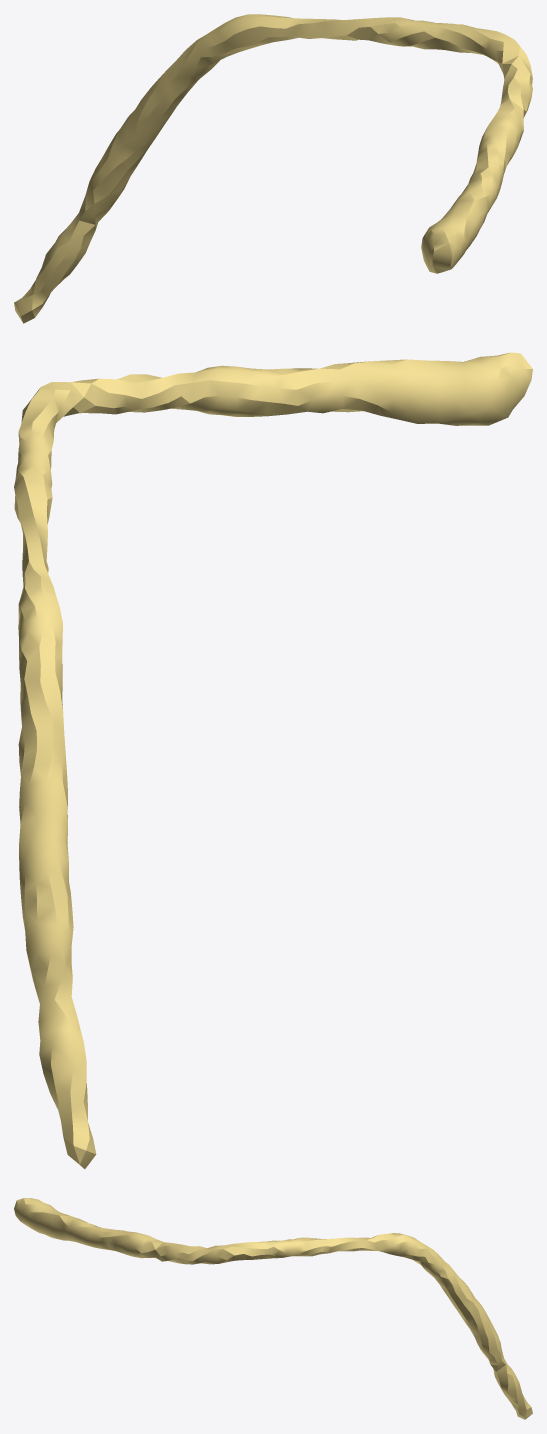
Rendered from fma53229_mm1021m.glb.
The picture shows the model from 3 angles, top to bottom: view 1: azimuth 30°, elevation 25°; view 2: azimuth 150°, elevation 25°; view 3: azimuth 270°, elevation 25°; orthographic projection. The views are drawn at different scales.
Parts seen in each view (by area): view 1: FMA53229_MM1021M; view 2: FMA53229_MM1021M; view 3: FMA53229_MM1021M.
Boxes of the visible parts, box(x1,y1,x2,y2) form: FMA53229_MM1021M: box(14, 14, 532, 323); FMA53229_MM1021M: box(14, 352, 532, 1169); FMA53229_MM1021M: box(14, 1198, 532, 1419).
Bounding box in the file's own units: 0.00516 × 0.00707 × 0.013.
